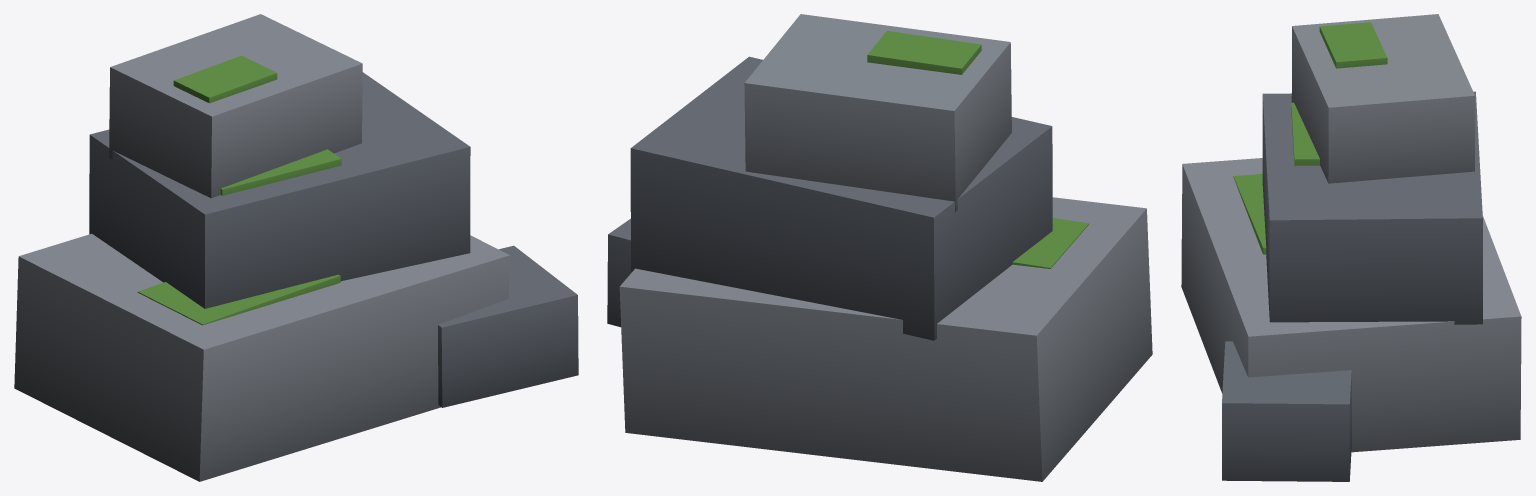
File: C04_cliff.glb
3 views of the same model, side by side, from view 1: azimuth 30°, elevation 25°; view 2: azimuth 150°, elevation 25°; view 3: azimuth 270°, elevation 25° (orthographic). The views are drawn at different scales.
Visible parts, largest first — view 1: C04_cliff; view 2: C04_cliff; view 3: C04_cliff.
Boxes of the visible parts, <box> form: C04_cliff: <box>14,14,578,481</box>; C04_cliff: <box>607,14,1152,481</box>; C04_cliff: <box>1181,14,1521,481</box>.
Size of the model in its own units: 4.64 by 3.23 by 3.19.
